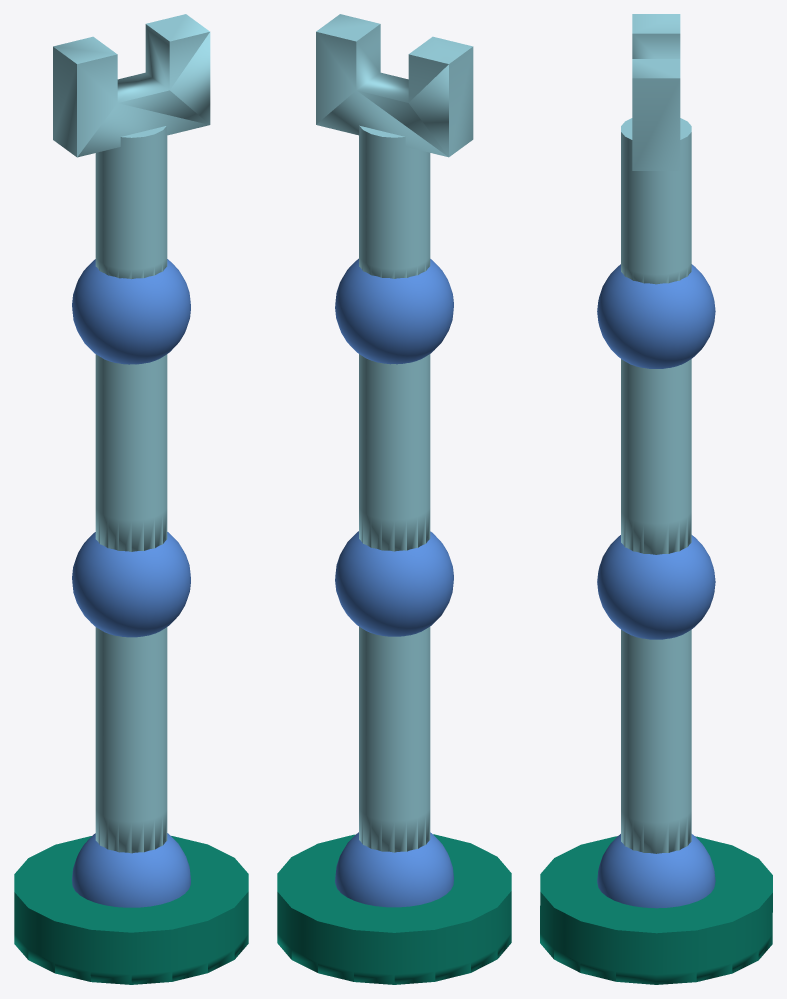
The model's file is SimpleArm.dae.
The picture shows the model from 3 angles, left to right: view 1: azimuth 30°, elevation 25°; view 2: azimuth 150°, elevation 25°; view 3: azimuth 270°, elevation 25°; orthographic projection.
Visible parts, largest first — view 1: base, mao, antebraco1, antebraco2, antebraco3, pJuncao3, pJuncao2, pJuncao1; view 2: base, mao, antebraco1, antebraco2, antebraco3, pJuncao2, pJuncao3, pJuncao1; view 3: base, antebraco1, antebraco2, pJuncao2, pJuncao3, antebraco3, mao, pJuncao1.
Boxes of the visible parts, x1,y1,x2,y2 form: base: (14, 836, 248, 984); mao: (53, 14, 210, 157); antebraco1: (95, 627, 167, 853); antebraco2: (95, 354, 167, 551); antebraco3: (95, 126, 167, 279); pJuncao3: (72, 259, 190, 364); pJuncao2: (72, 532, 190, 637); pJuncao1: (72, 833, 190, 907); base: (277, 834, 511, 984); mao: (316, 14, 473, 157); antebraco1: (359, 626, 430, 852); antebraco2: (359, 354, 430, 551); antebraco3: (359, 125, 430, 278); pJuncao2: (335, 531, 453, 636); pJuncao3: (335, 258, 453, 364); pJuncao1: (335, 832, 453, 907); base: (540, 836, 772, 984); antebraco1: (621, 630, 691, 853); antebraco2: (621, 359, 691, 554); pJuncao2: (597, 535, 715, 639); pJuncao3: (597, 264, 715, 368); antebraco3: (621, 118, 691, 284); mao: (632, 14, 680, 170); pJuncao1: (597, 834, 715, 908).
Bounding box in the file's own units: 20.66 × 20.37 × 85.84.
